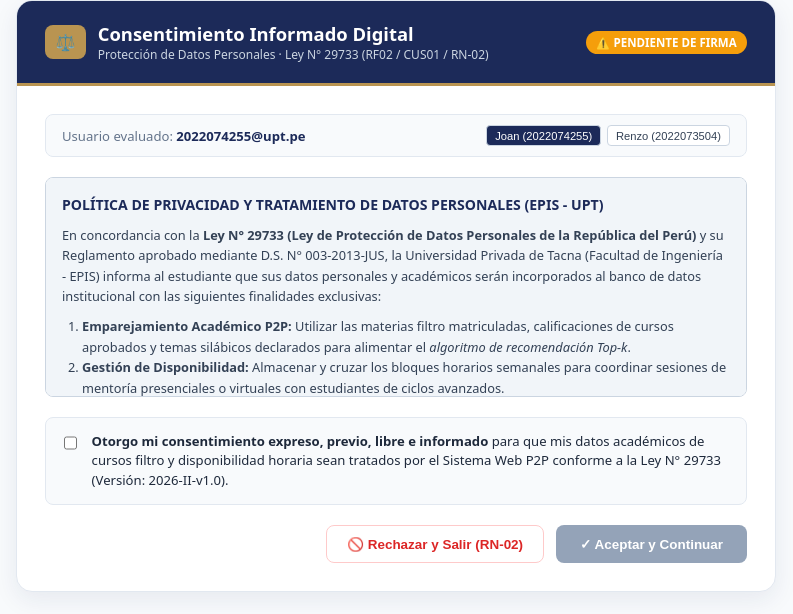
Scenario: ConsentModalView Component (T-04 / RF02 / RN-02) › 2. El botón de aceptar permanece deshabilitado hasta marcar la casilla de conformidad
Check: the button "✓ Aceptar y Continuar" is disabled, box [556,525,747,563]
Click the checkbox.
click(70, 443)  # box [64,434,77,452]
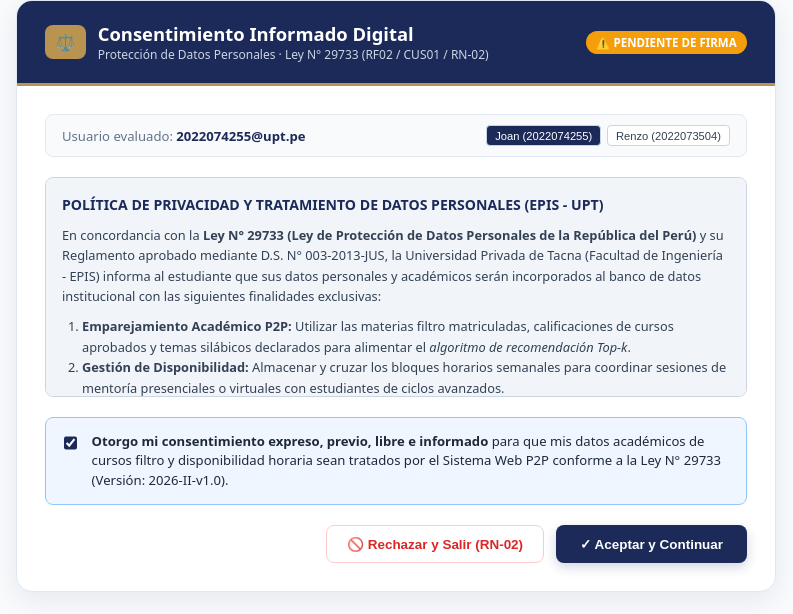
Check: the checkbox is checked, box [64,434,77,452]
Check: the button "✓ Aceptar y Continuar" is enabled, box [556,525,747,563]
